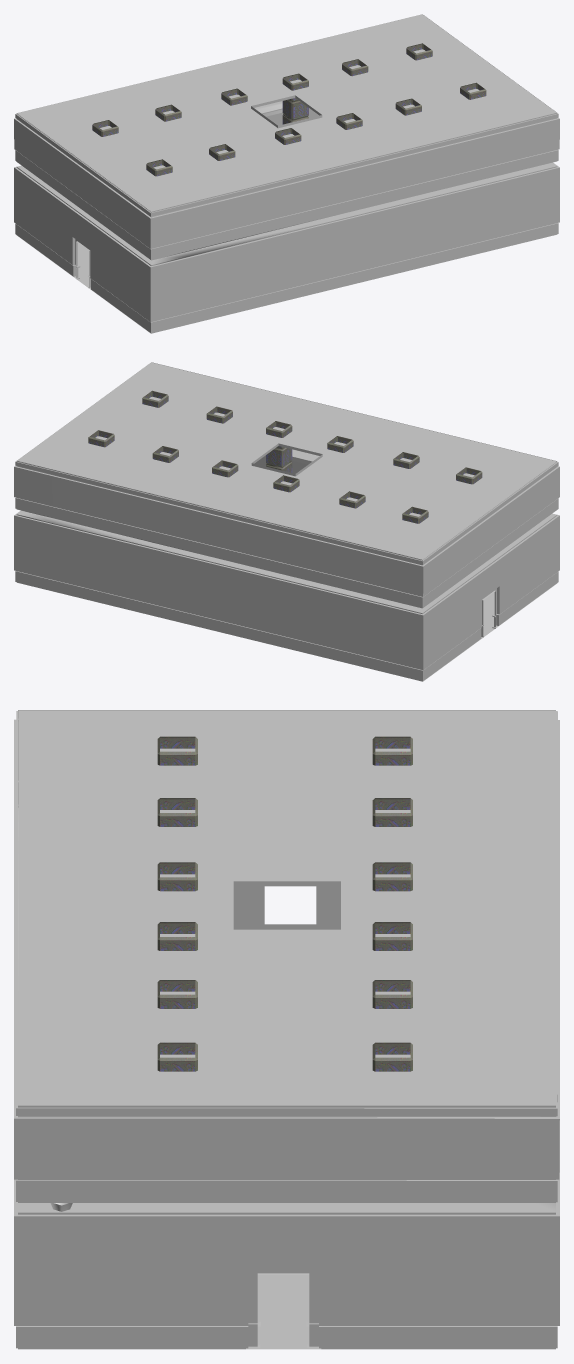
The model's file is Kazadum 1.FBX.
The picture shows the model from 3 angles, top to bottom: view 1: azimuth 30°, elevation 25°; view 2: azimuth 150°, elevation 25°; view 3: azimuth 270°, elevation 25°; orthographic projection. The views are drawn at different scales.
Visible parts, largest first — view 1: Object007, sol040, grand mur007, pillier084, mur042, Object006, sol037; view 2: Object006, sol040, grand mur007, pillier084, Object007, mur042, sol037; view 3: sol040, grand mur008, pillier084, mur043, sol037, Object007, mur042, Object006, grand mur007.
Part boxes in pixels (x1,y1,x2,y2): Object007: [150, 113, 559, 333]; sol040: [16, 14, 556, 211]; grand mur007: [14, 113, 154, 332]; pillier084: [92, 43, 486, 176]; mur042: [68, 231, 95, 292]; Object006: [15, 14, 421, 167]; sol037: [17, 235, 150, 333]; Object006: [14, 461, 423, 681]; sol040: [17, 362, 556, 559]; grand mur007: [419, 461, 559, 680]; pillier084: [88, 390, 482, 523]; Object007: [152, 362, 558, 515]; mur042: [476, 581, 504, 641]; sol037: [423, 583, 556, 681]; sol040: [18, 710, 555, 1105]; grand mur008: [14, 1105, 559, 1349]; pillier084: [157, 736, 412, 1071]; mur043: [230, 1265, 337, 1349]; sol037: [246, 1275, 321, 1349]; Object007: [14, 711, 40, 1326]; mur042: [236, 886, 340, 924]; Object006: [533, 711, 559, 1326]; grand mur007: [14, 710, 558, 924].
Bounding box in the file's own units: 1756 × 526 × 1015.
